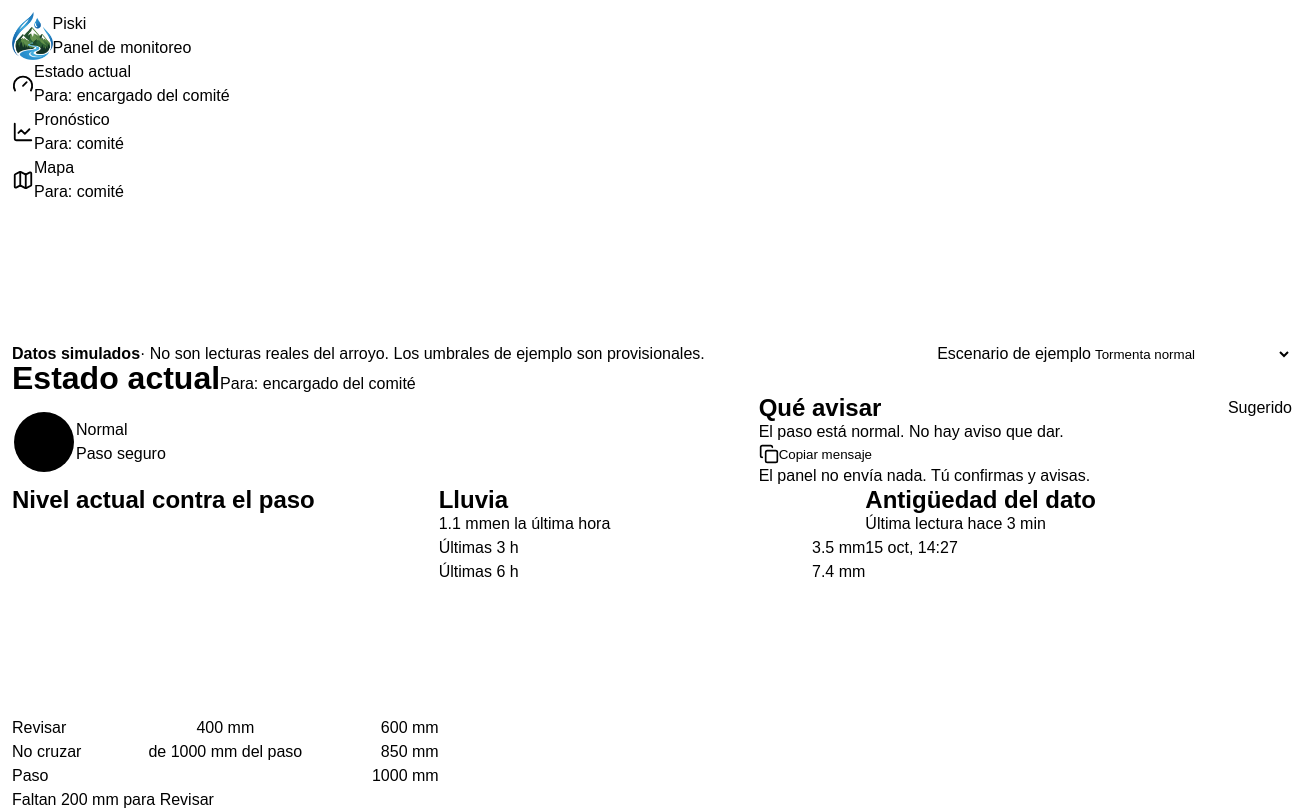
Scenario: Aplicación: carga y errores › cambiar de escenario con el selector actualiza la pantalla sin recargar
Expected: the text "Paso seguro" is shown, [76,442,166,466]
Select "Ciclón: nivel en No cruzar" in the dropdown labelled "Escenario de ejemplo" at coordinates (1192, 354), box [1091,346,1292,362]
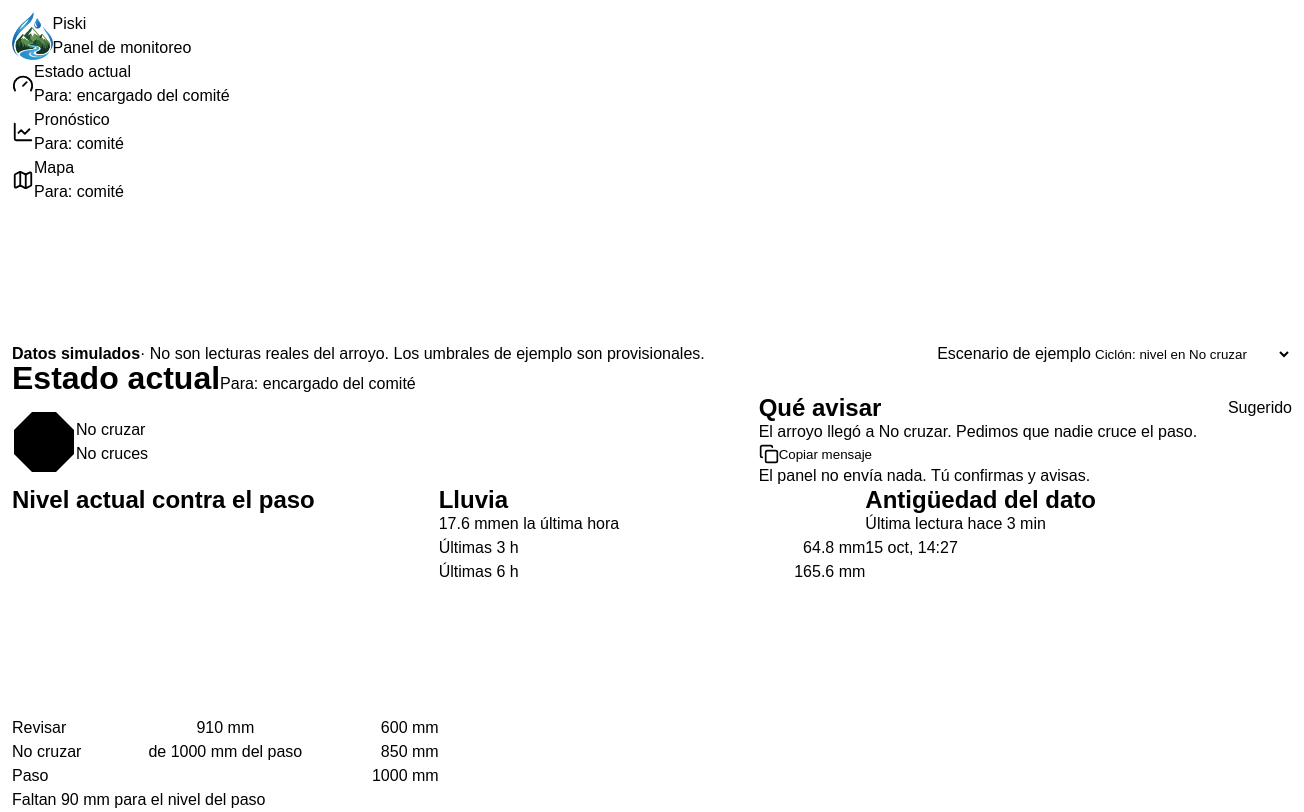
Expected: the text "Datos simulados" is shown, [12,342,140,366]
Expected: the text "No cruces" is shown, [76,442,148,466]
Expected: the text "Paso seguro" is gone
